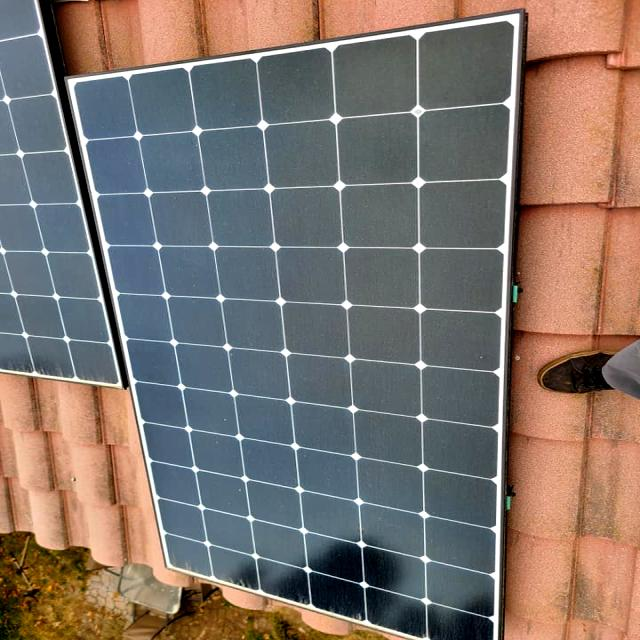dust: (424, 63, 489, 606), (112, 175, 280, 378), (176, 411, 317, 564), (75, 68, 323, 140), (361, 447, 418, 610), (359, 259, 416, 412), (354, 118, 416, 244), (341, 52, 413, 113)
